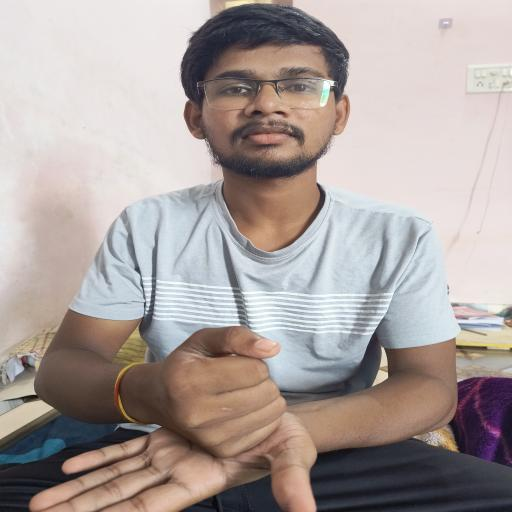Next: (12, 312, 352, 512)
